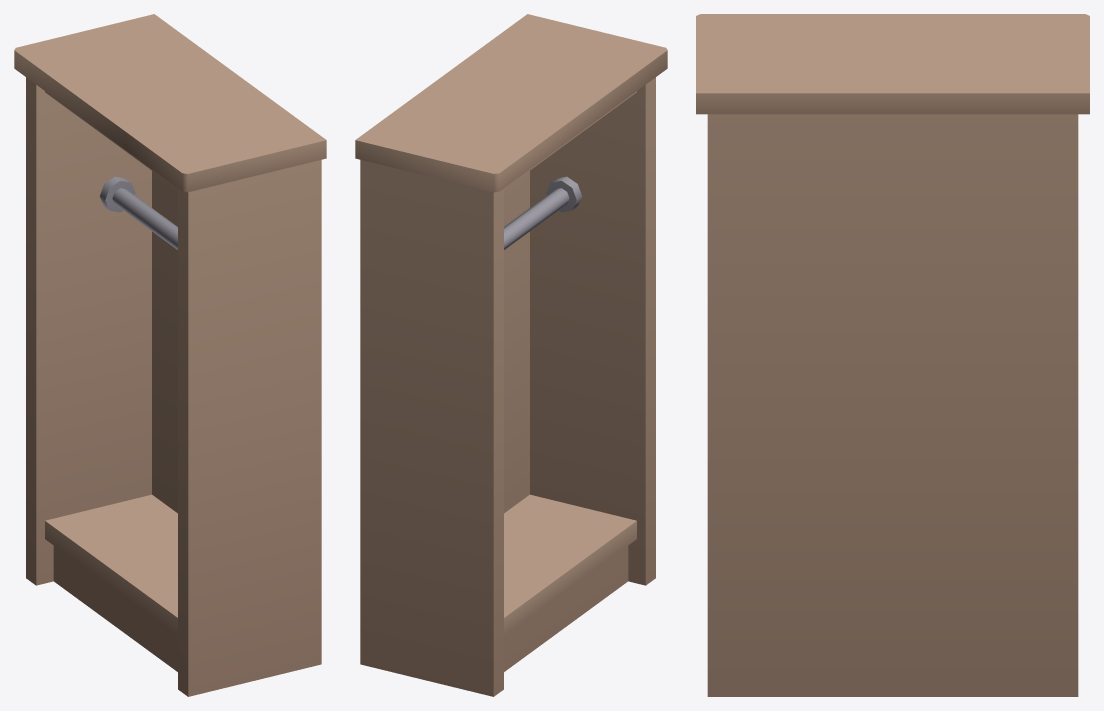
Rendered from cabinet-clothing-double.glb.
3 views of the same model, side by side, from view 1: azimuth 30°, elevation 25°; view 2: azimuth 150°, elevation 25°; view 3: azimuth 270°, elevation 25° (orthographic). The views are drawn at different scales.
Parts seen in each view (by area): view 1: cabinet-clothing-double; view 2: cabinet-clothing-double; view 3: cabinet-clothing-double.
Boxes of the visible parts, x1,y1,x2,y2 form: cabinet-clothing-double: (14,14,326,696); cabinet-clothing-double: (355,14,667,696); cabinet-clothing-double: (696,14,1089,696).
Bounding box in the file's own units: 0.405 × 1.44 × 0.85.
